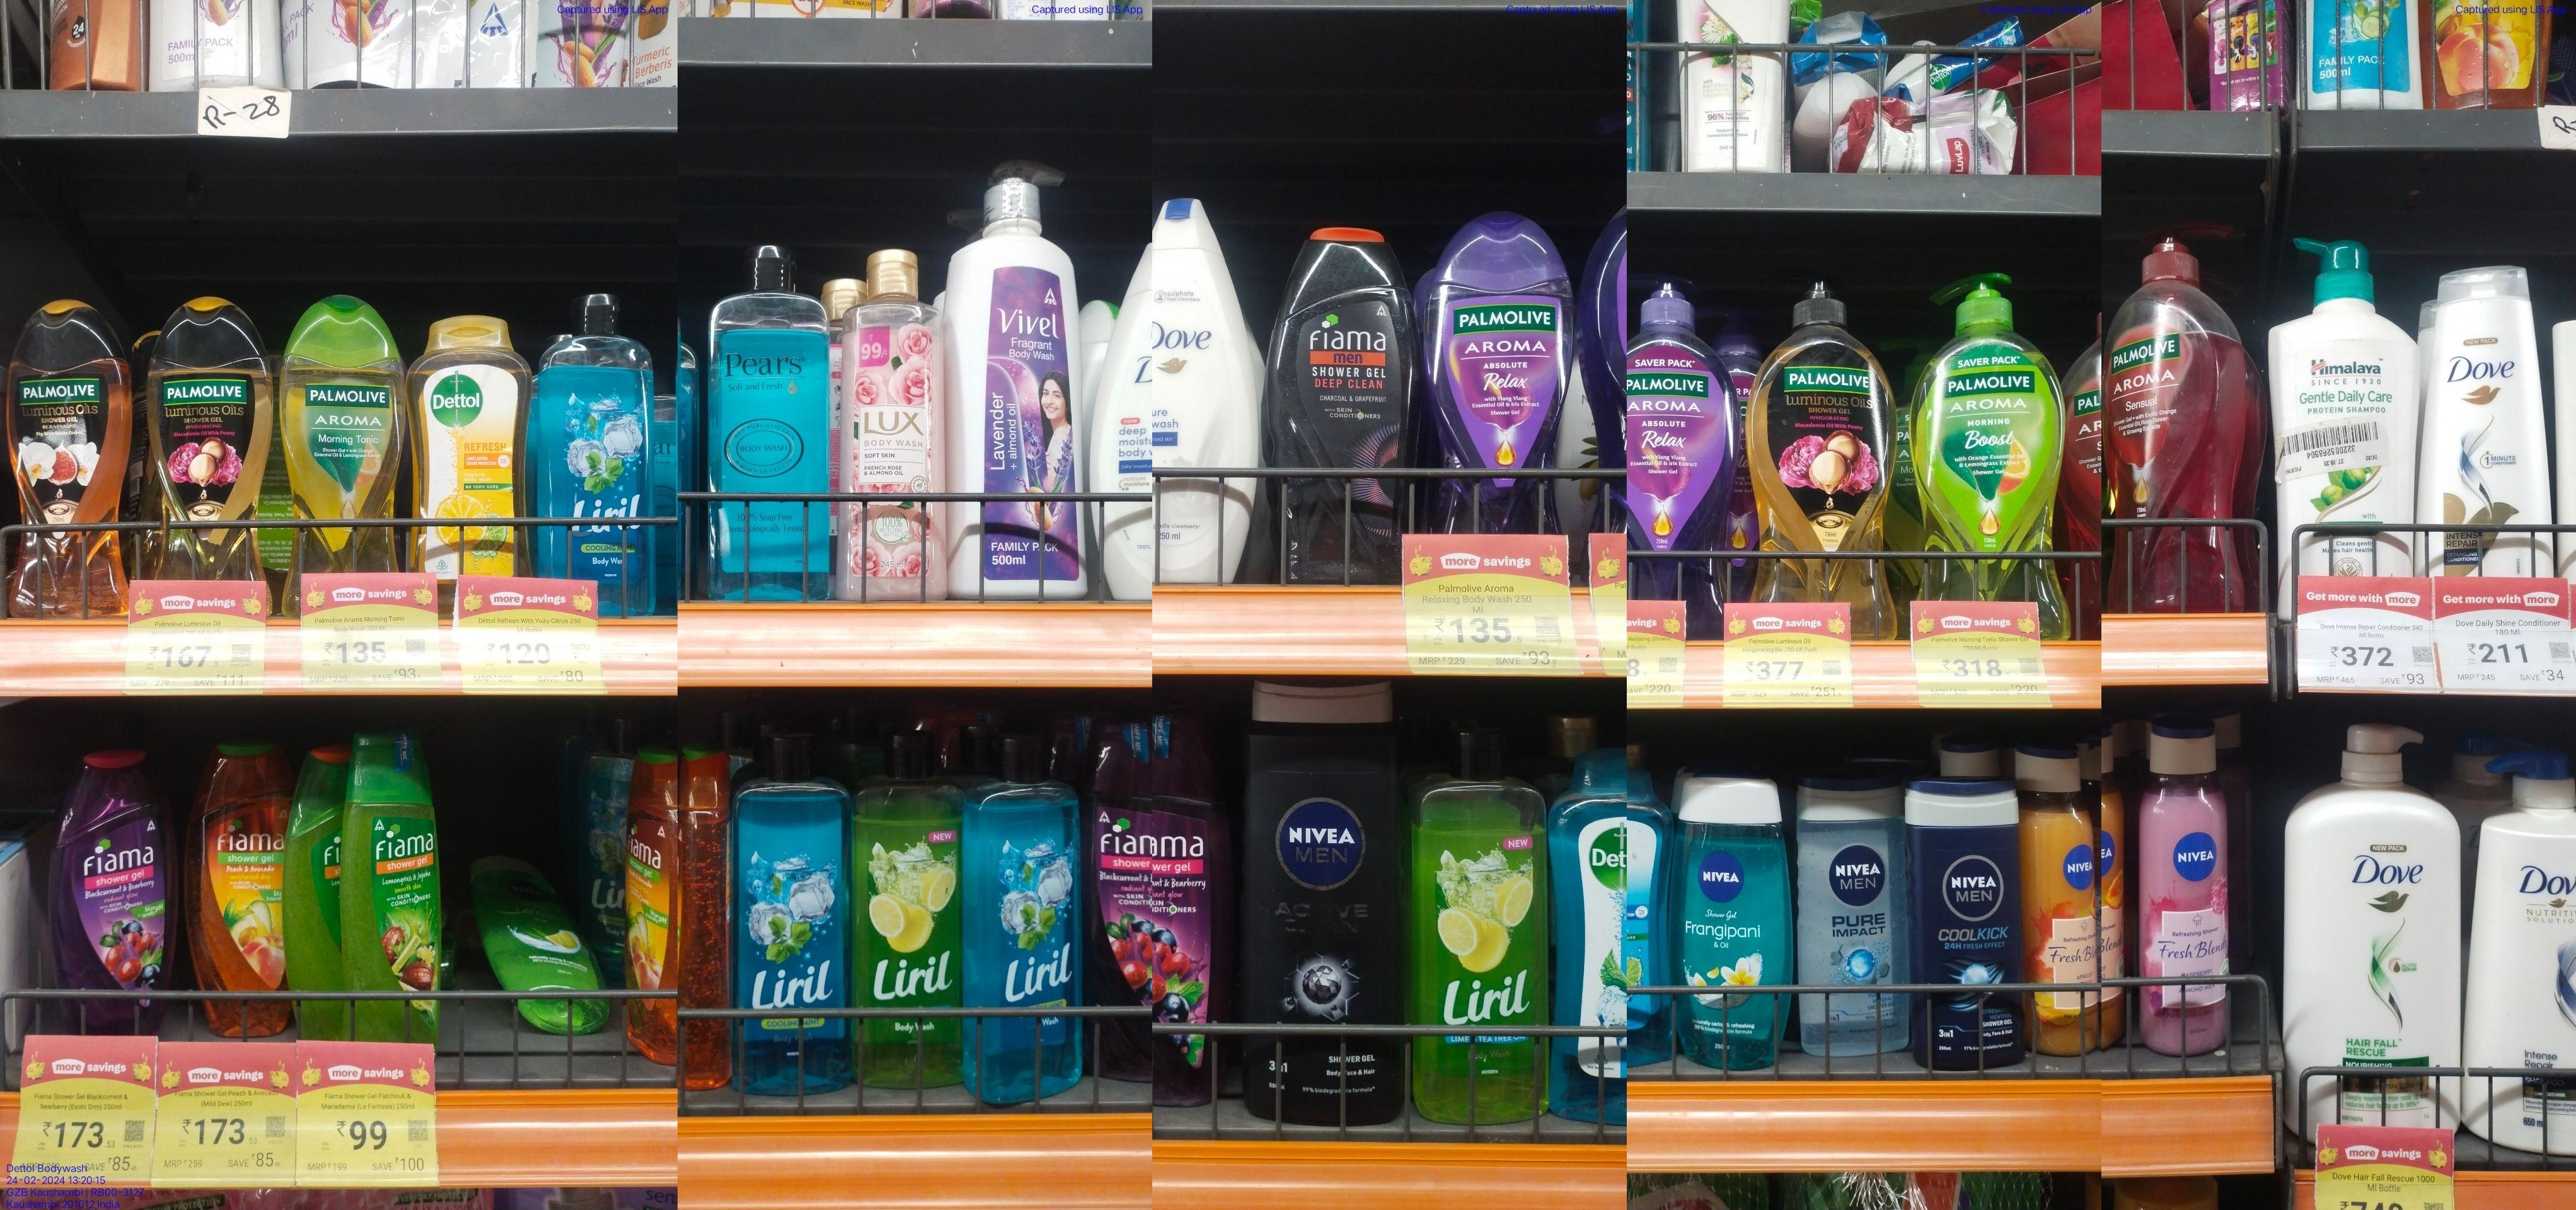Dettol_Bodywash_Refresh: (416, 317, 522, 575)
Fiama_Shower_Gel_Peach_and_Avocado_250ML: (192, 742, 286, 1038)
Liril_Cooling_Mint_Body_Wash_250ML: (973, 734, 1088, 1100), (731, 734, 844, 1093), (545, 296, 654, 611)
Liril_Lime_and_Tea_Tree_Oil_Body_Wash_250ML: (1416, 724, 1552, 1121), (856, 737, 961, 1090)
Palmolive_Aroma_Morning_Tonic_Shower_Gel_250ML: (283, 300, 402, 593)
Palmolive_Luminous_Oils_Invigorating_Macadamia_Oil_With_Peony_250ML: (151, 304, 276, 584)
Palmolive_Luminous_Oils_With_White_Orchid_Shower_Gel_250ML: (10, 309, 126, 626)
